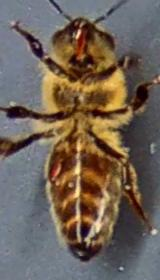varroa_mite: (42, 153, 68, 178)
